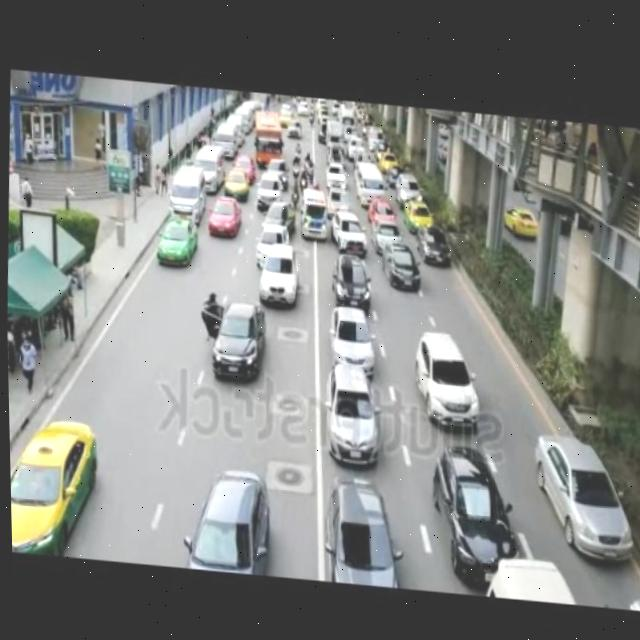emergency: (295, 183, 328, 237)
